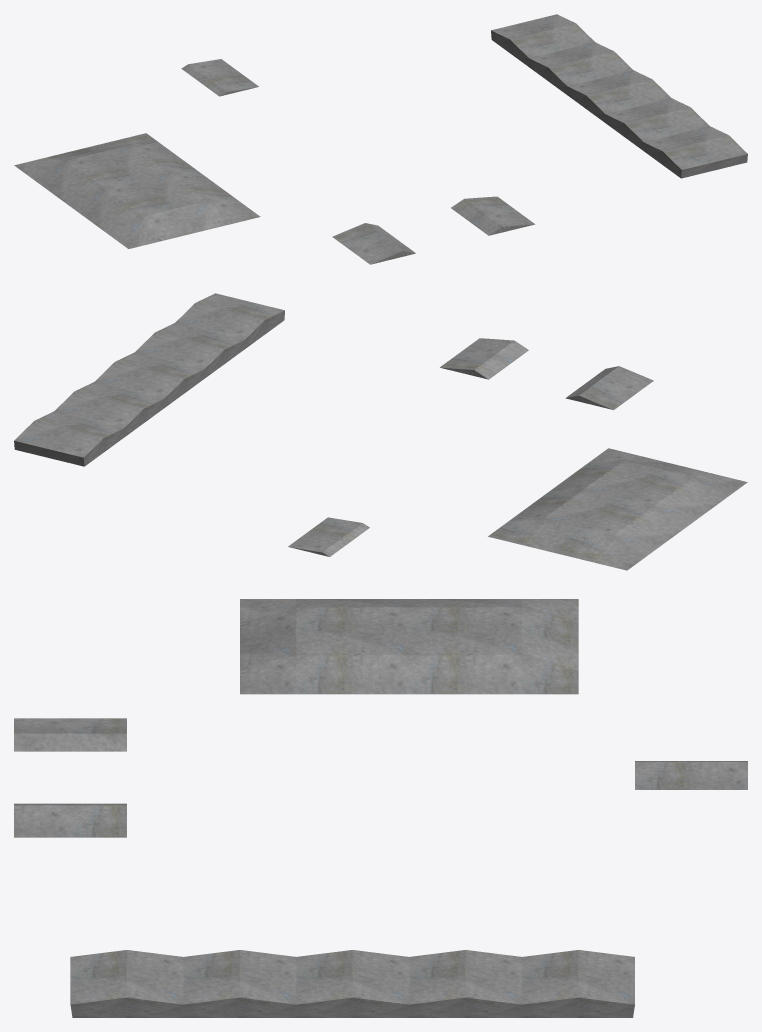
The model's file is ground ramp.fbx.
3 views of the same model, one above another, from view 1: azimuth 30°, elevation 25°; view 2: azimuth 150°, elevation 25°; view 3: azimuth 270°, elevation 25° (orthographic). The views are drawn at different scales.
Parts seen in each view (by area): view 1: Test_trackGround; view 2: Test_trackGround; view 3: Test_trackGround.
Part boxes in pixels (x1,y1,x2,y2): Test_trackGround: (14, 14, 747, 264); Test_trackGround: (14, 293, 747, 570); Test_trackGround: (14, 599, 747, 1017).
Bounding box in the file's own units: 14731 × 487 × 11265.
